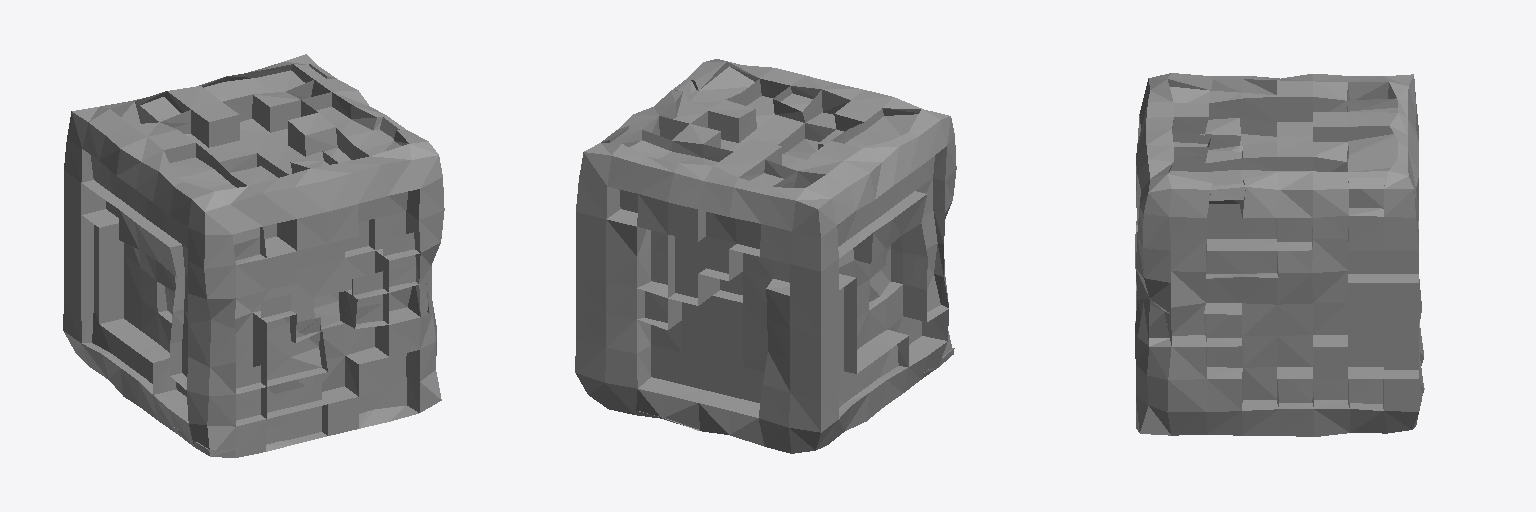
The model's file is block1.obj.
3 views of the same model, side by side, from view 1: azimuth 30°, elevation 25°; view 2: azimuth 150°, elevation 25°; view 3: azimuth 270°, elevation 25° (orthographic).
Parts seen in each view (by area): view 1: Cube; view 2: Cube; view 3: Cube.
Part boxes in pixels (x1,y1,x2,y2): Cube: (63, 54, 444, 457); Cube: (575, 59, 956, 453); Cube: (1135, 73, 1424, 436).
Size of the model in its own units: 2.04 by 2.03 by 2.05.